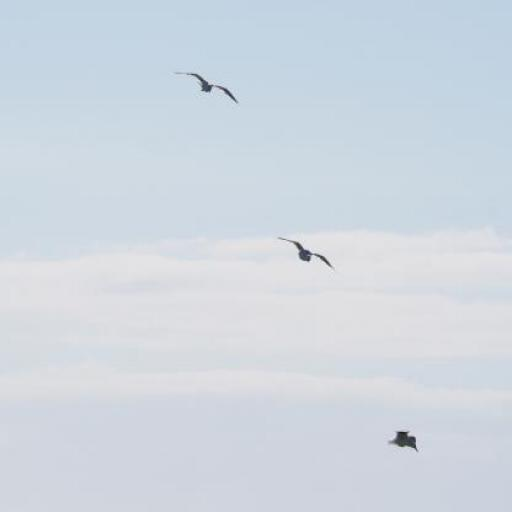bird: (175, 71, 240, 106), (274, 236, 336, 272), (388, 430, 418, 454)
